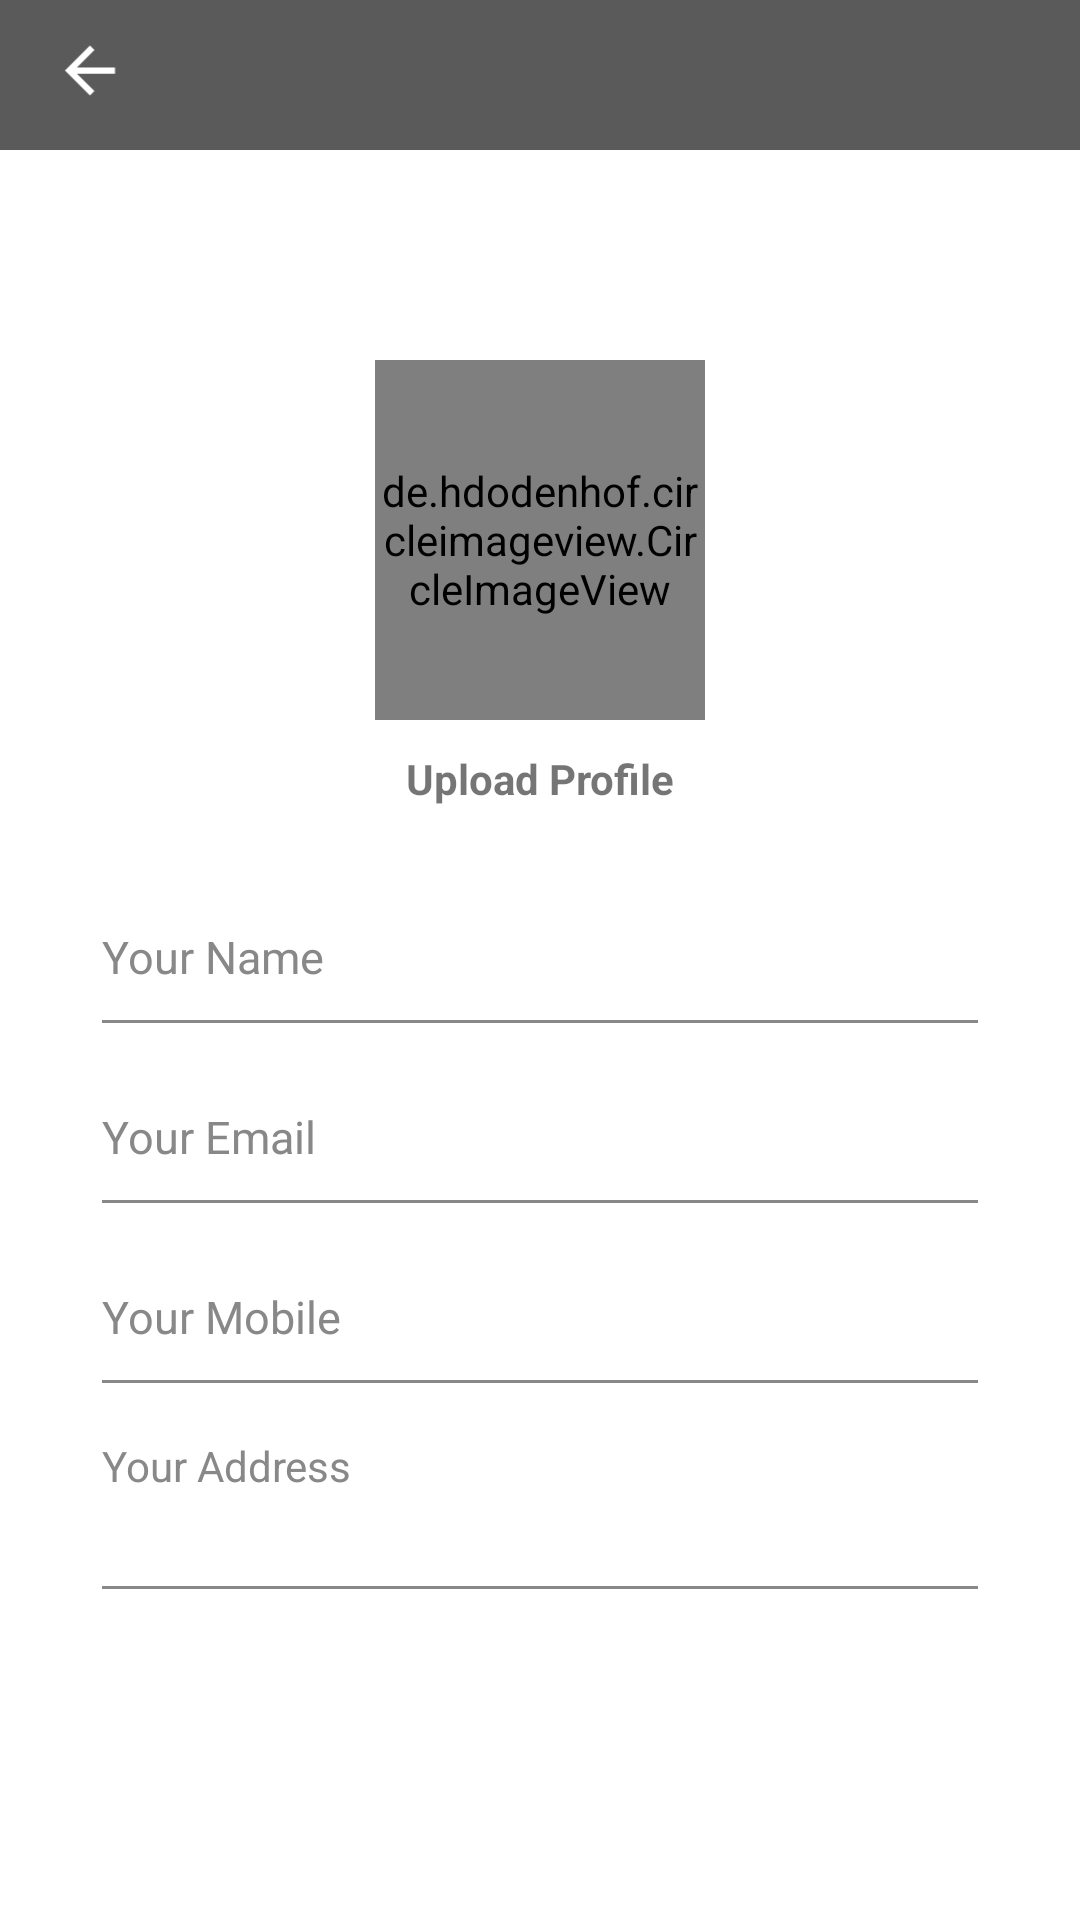

Screen size 1080 × 1920. Icon name, then its center in pixels as (x=x, y=y):
backbtn tool: (x=90, y=70)
